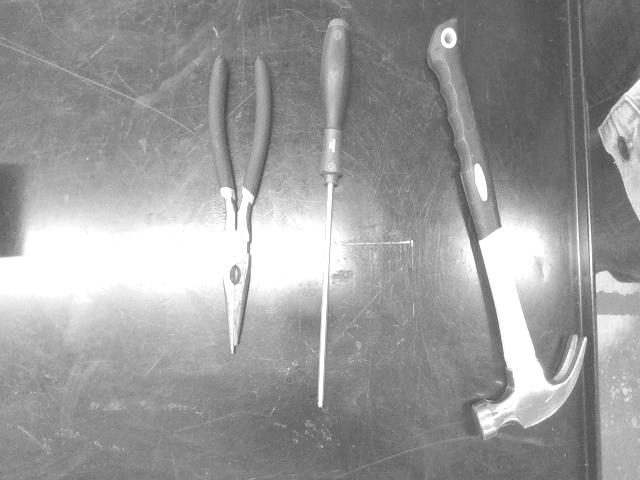Hammer: (428, 18, 586, 439)
Needle-nose pliers: (209, 55, 271, 352)
Screwdriver: (318, 18, 351, 408)
